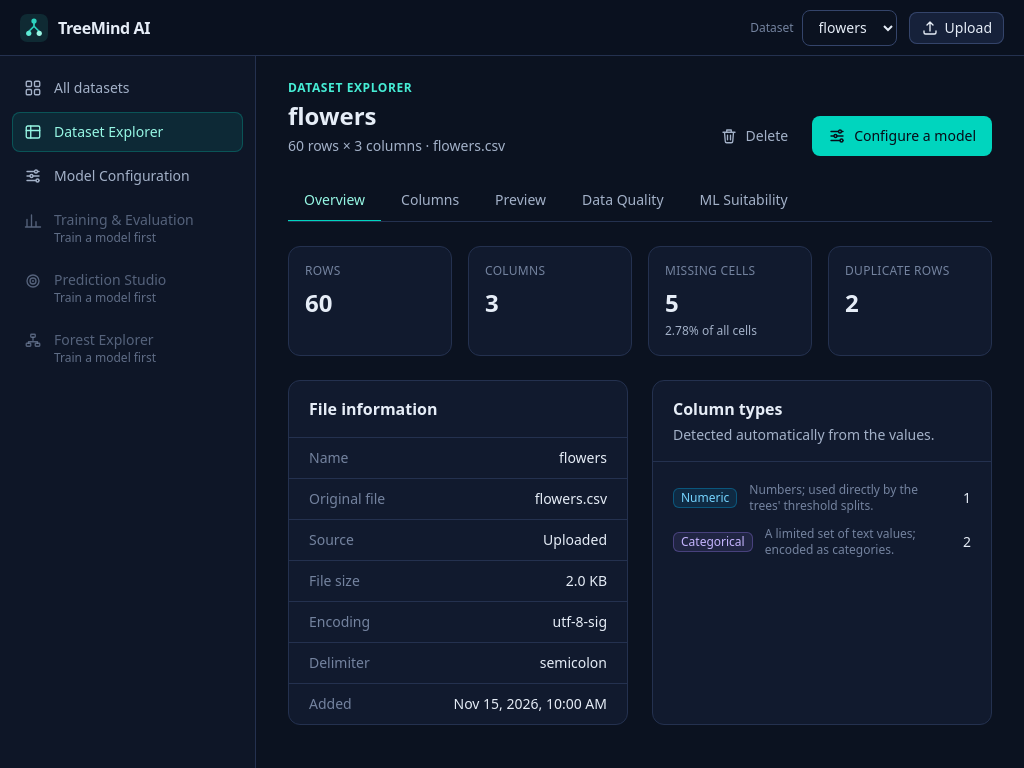
Test: Dataset Explorer › keeps the dialog open with the error when deletion fails
The width and height of the screenshot is (1024, 768).
Expected: the heading "flowers" is shown, [288,99,376,132]
Click the button with aria-label "Delete flowers" at (754, 136), box [704,116,804,156]
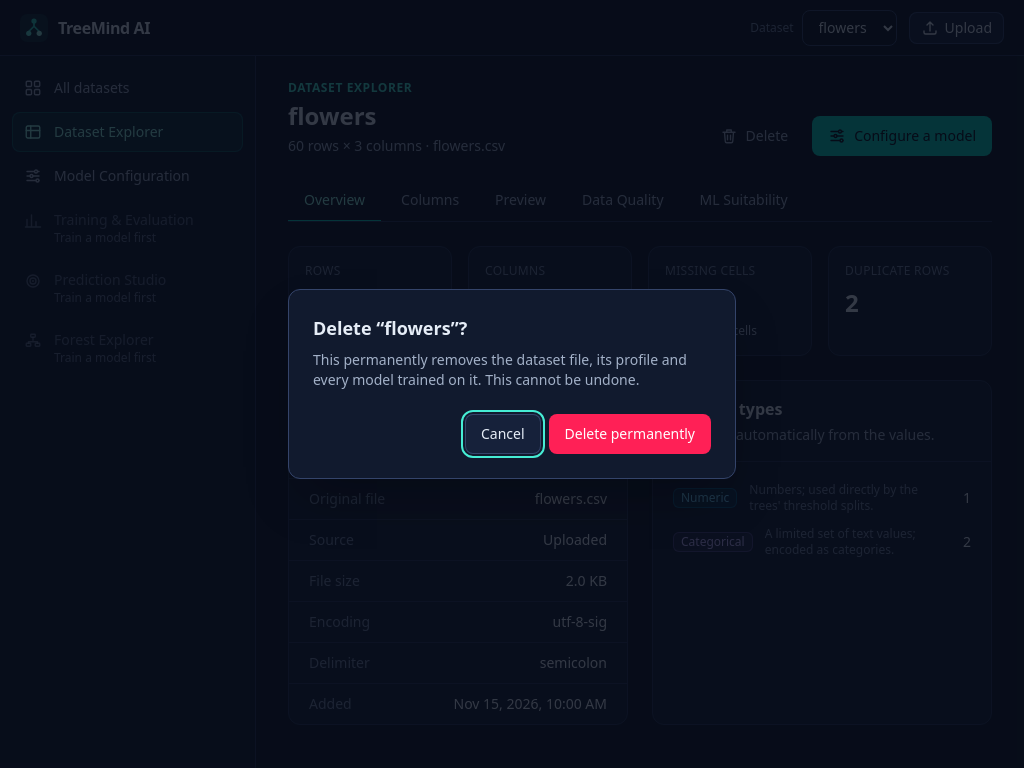
Click the button "Delete permanently" at (630, 434), box [548,414,711,454]
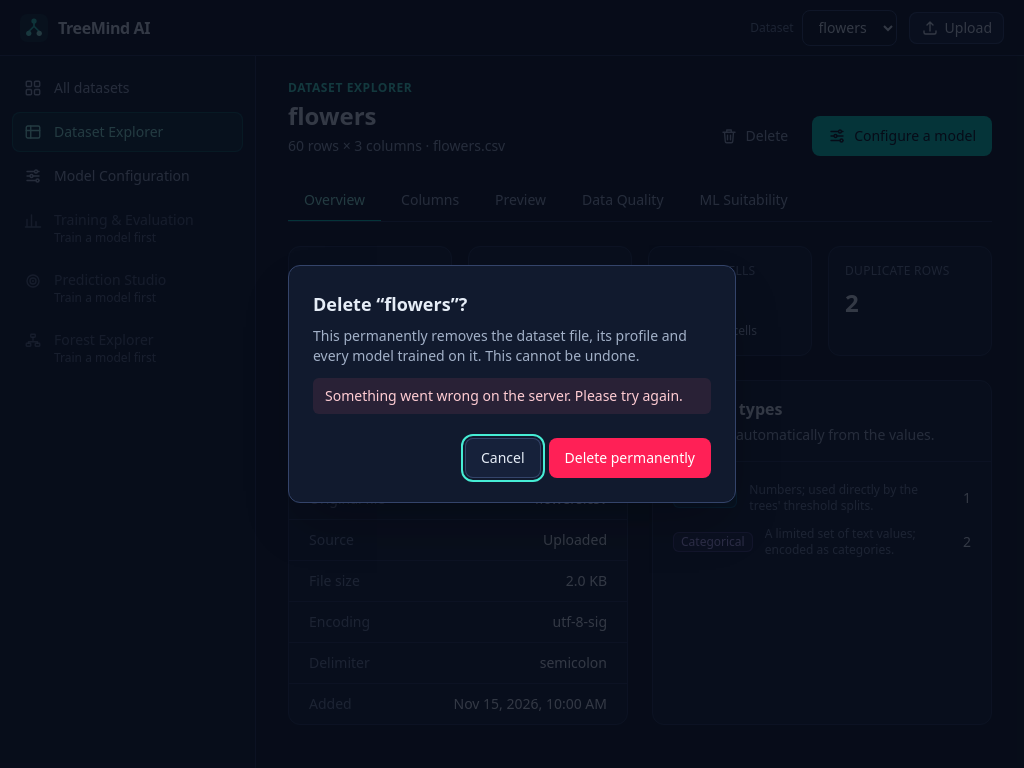
Now the text "Something went wrong on the server. Please try again." is shown, box [313,378,711,414]
